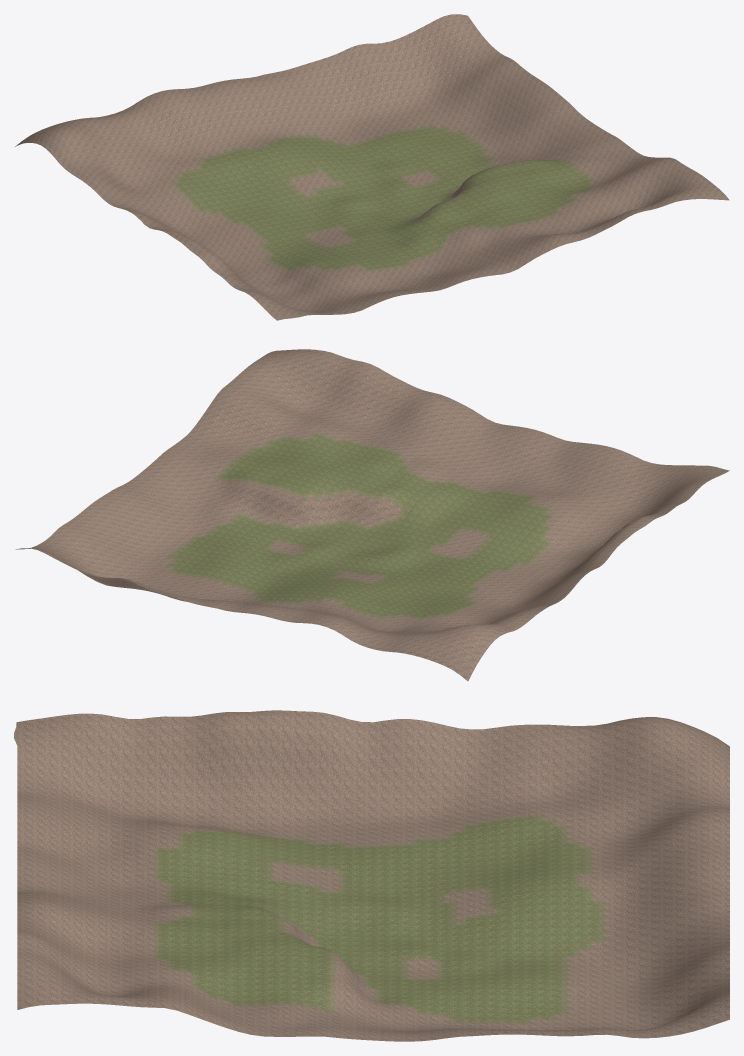
Rendered from Stage00_c.fbx.
3 renders of one model, top to bottom at view 1: azimuth 30°, elevation 25°; view 2: azimuth 150°, elevation 25°; view 3: azimuth 270°, elevation 25°, orthographic. The views are drawn at different scales.
Parts seen in each view (by area): view 1: SM_SampleGame_Stage00_Ground; view 2: SM_SampleGame_Stage00_Ground; view 3: SM_SampleGame_Stage00_Ground.
Boxes of the visible parts, box(x1,y1,x2,y2) form: SM_SampleGame_Stage00_Ground: box(15, 14, 729, 320); SM_SampleGame_Stage00_Ground: box(15, 349, 729, 681); SM_SampleGame_Stage00_Ground: box(14, 710, 729, 1041).
Bounding box in the file's own units: 11637 × 1505 × 11691.
